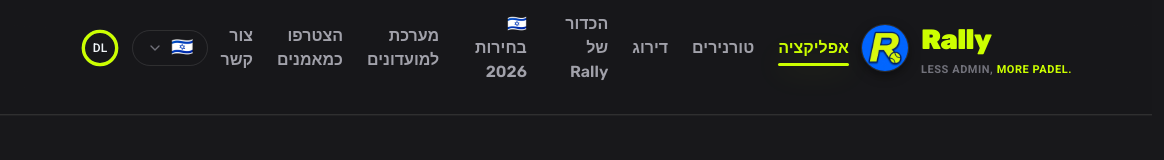
Test: nav order and names › the other nav links carry no state
The image size is (1164, 160).
Click the link "דירוג" at {"x": 650, "y": 48}, box x1=632 y1=38 x2=668 y2=57
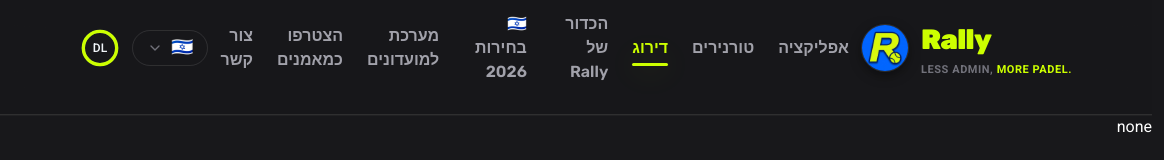
Now the text with test id "probe" reads "none", box x1=1117 y1=115 x2=1152 y2=139
